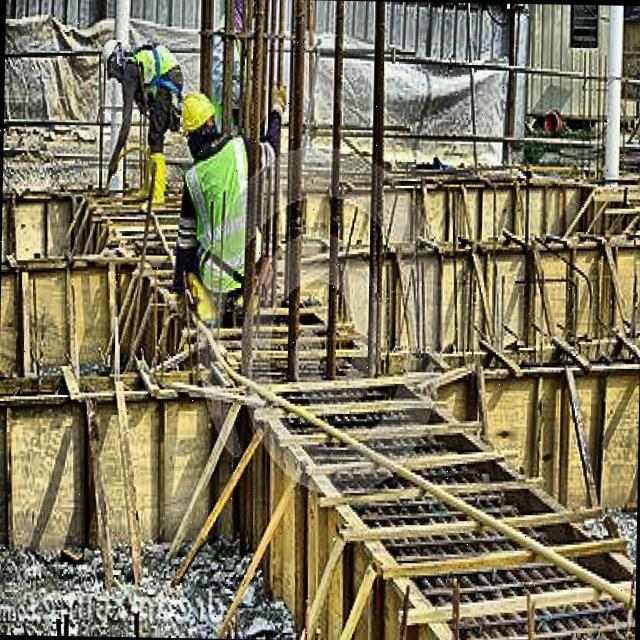helmet: (174, 86, 218, 146), (92, 34, 131, 88)
